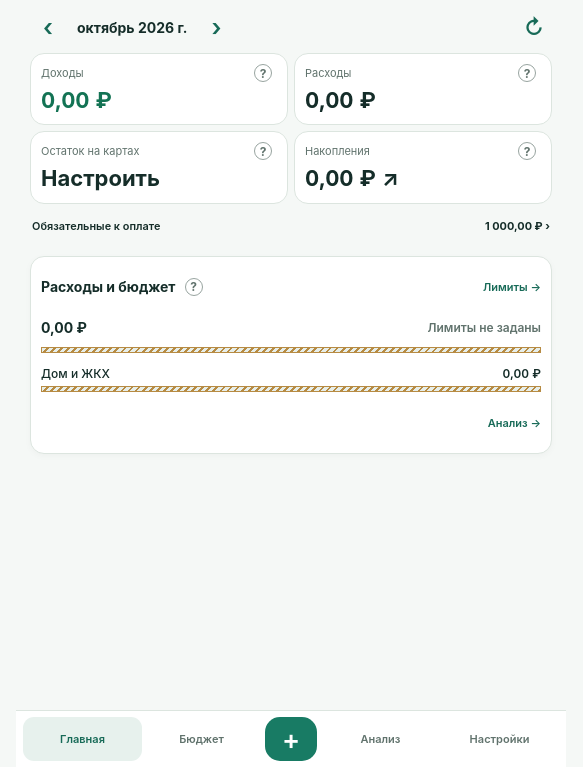
Test: оплачивает в одно нажатие; изменение суммы оплаты сохраняет сумму будущих повторений
Click the button "Бюджет": (202, 739) [142,717,261,761]
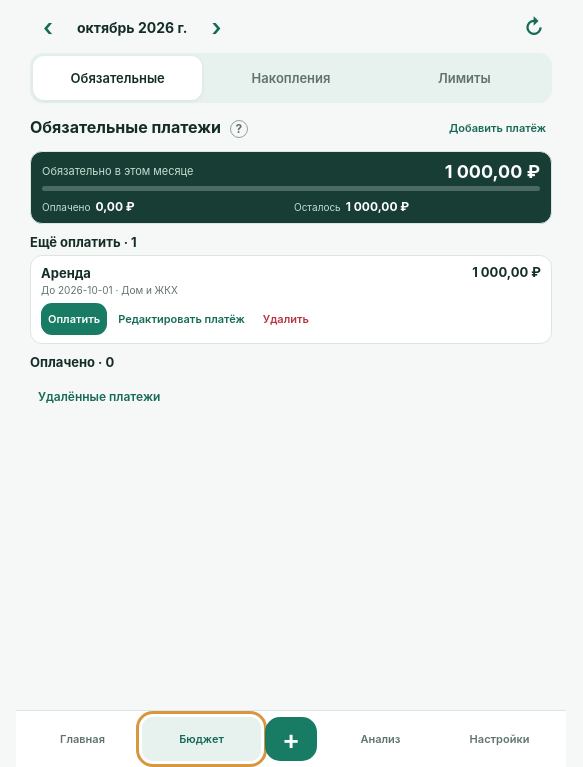
Click the button with aria-label "Оплатить Аренда": (74, 319) [41,303,107,335]
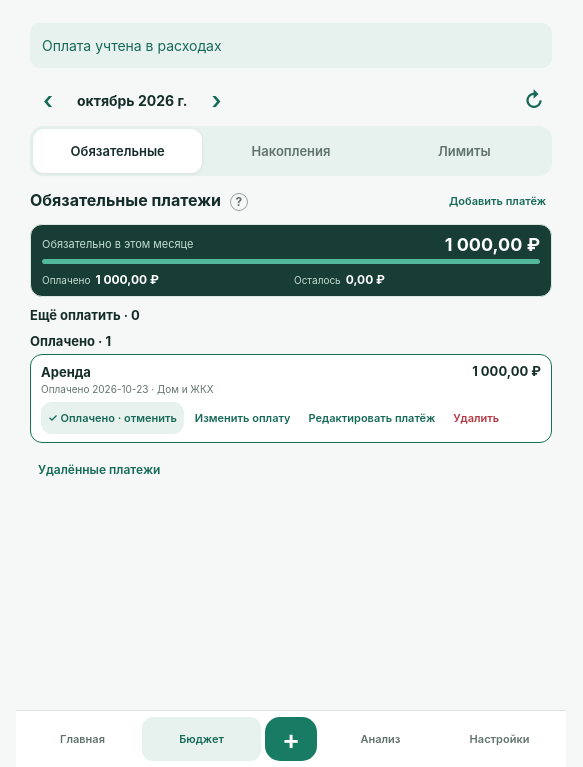
Now the text "Оплата учтена в расходах" is shown, box [30,23,552,68]
Click the button "Изменить оплату": (243, 418) [188,402,298,434]
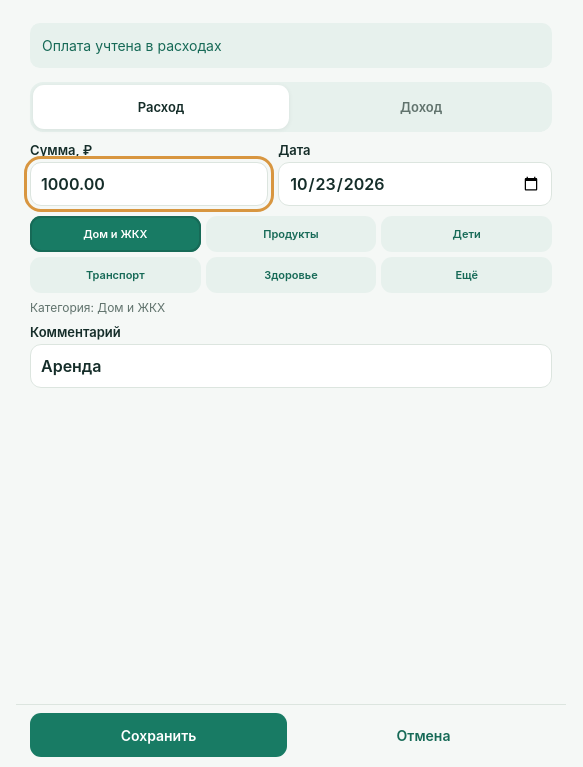
Replace the text in the field labelled "Сумма, ₽" with "950": (149, 184) [30,162,268,206]
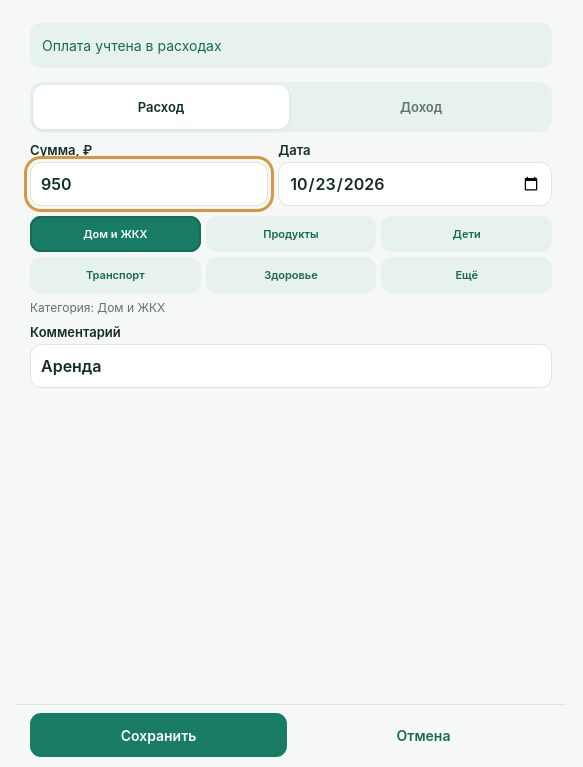
Click the button "Сохранить": (158, 735) [30,713,287,757]
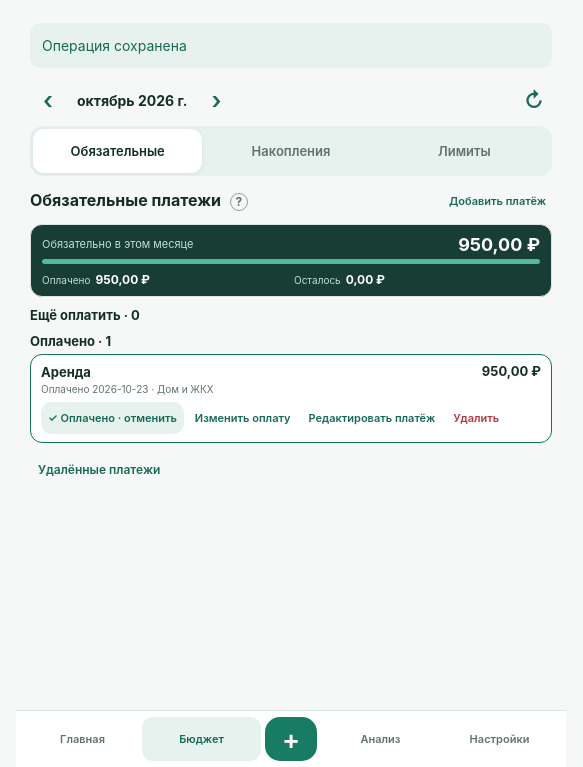
Now the text "Операция сохранена" is shown, box [30,23,552,68]
Now the element named "Разделы бюджета" is shown, box [30,126,552,176]
